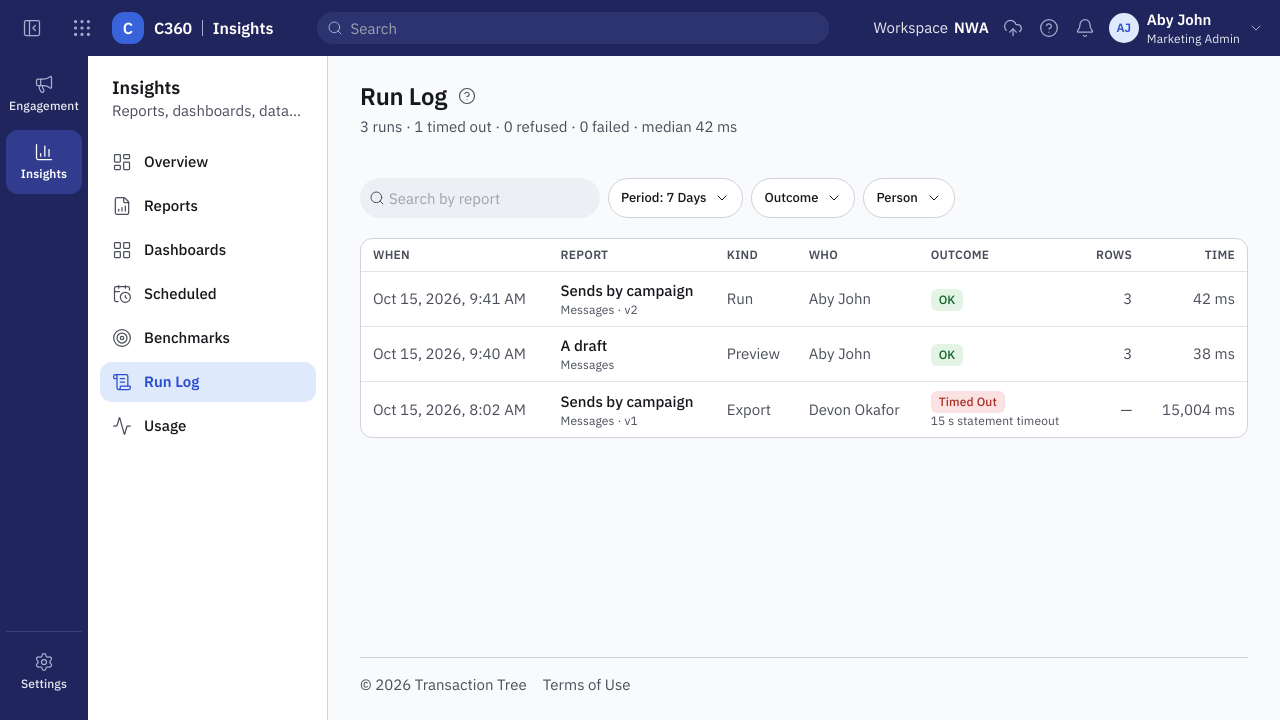
it: the Run Log is in the menu for a report administrator only; it lists the runs with their outcomes and reasons, and filters by outcome
expect the heading "Run Log" is shown: met, box [360, 80, 447, 112]
expect the link "Run Log" is shown: met, box [100, 362, 316, 402]
What coordinates should you click on to do the following:
click the button "Outcome"
I would click on:
 (803, 198)
Its box is [751, 178, 855, 218].
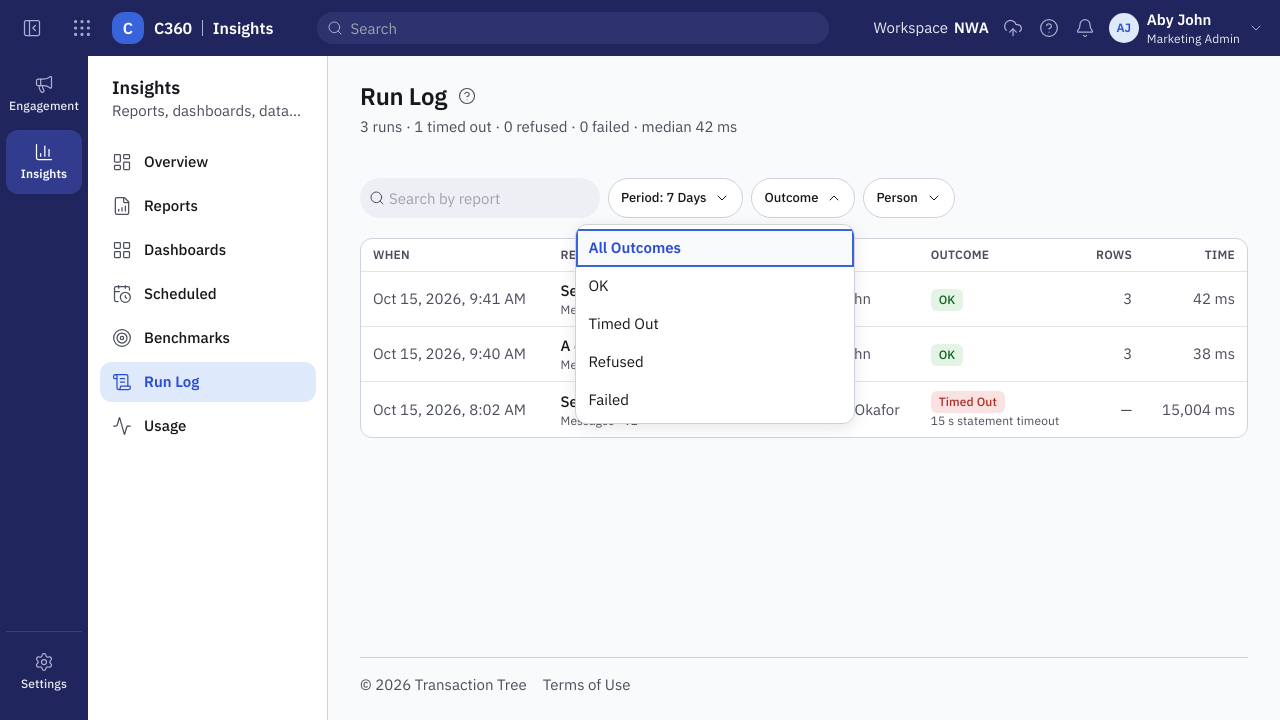
What coordinates should you click on to do the following:
click the option "Timed Out"
I would click on:
 (624, 324)
Its box is [588, 314, 659, 333].
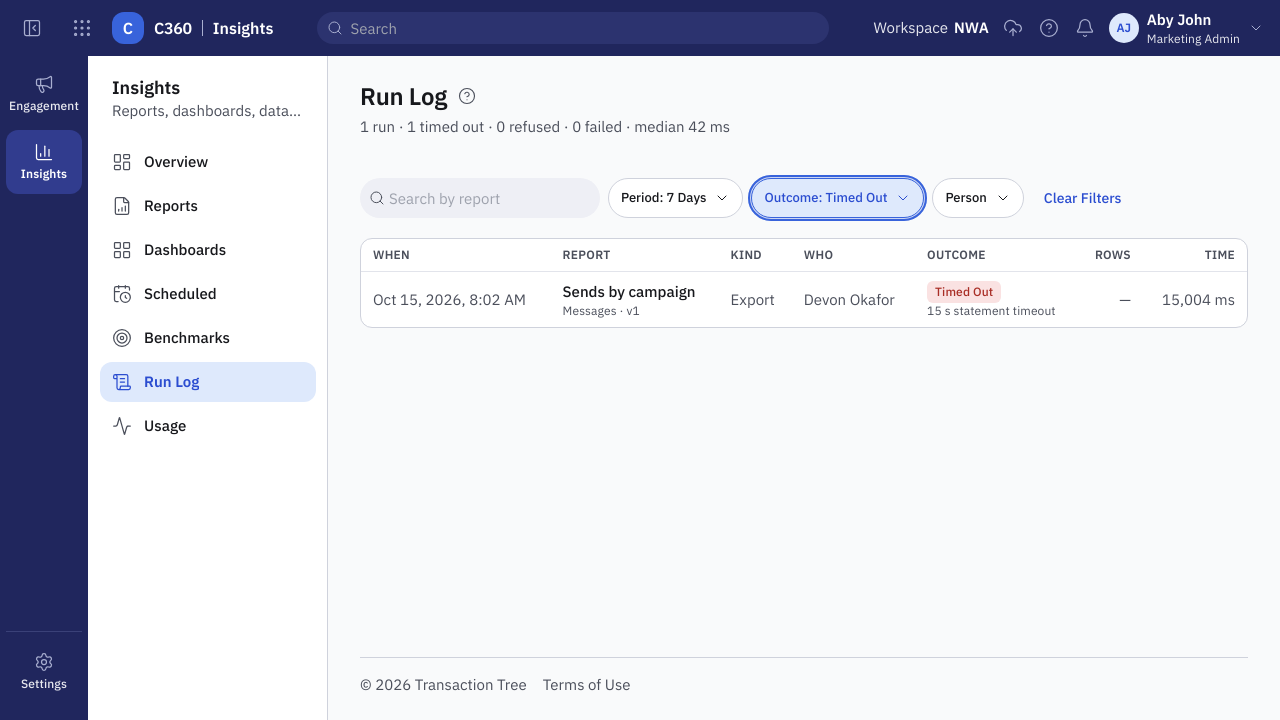
expect the number of rows is 2: met, box [361, 239, 1247, 272]; [361, 272, 1247, 327]
expect the button "Outcome: Timed Out" is shown: met, box [751, 178, 924, 218]
